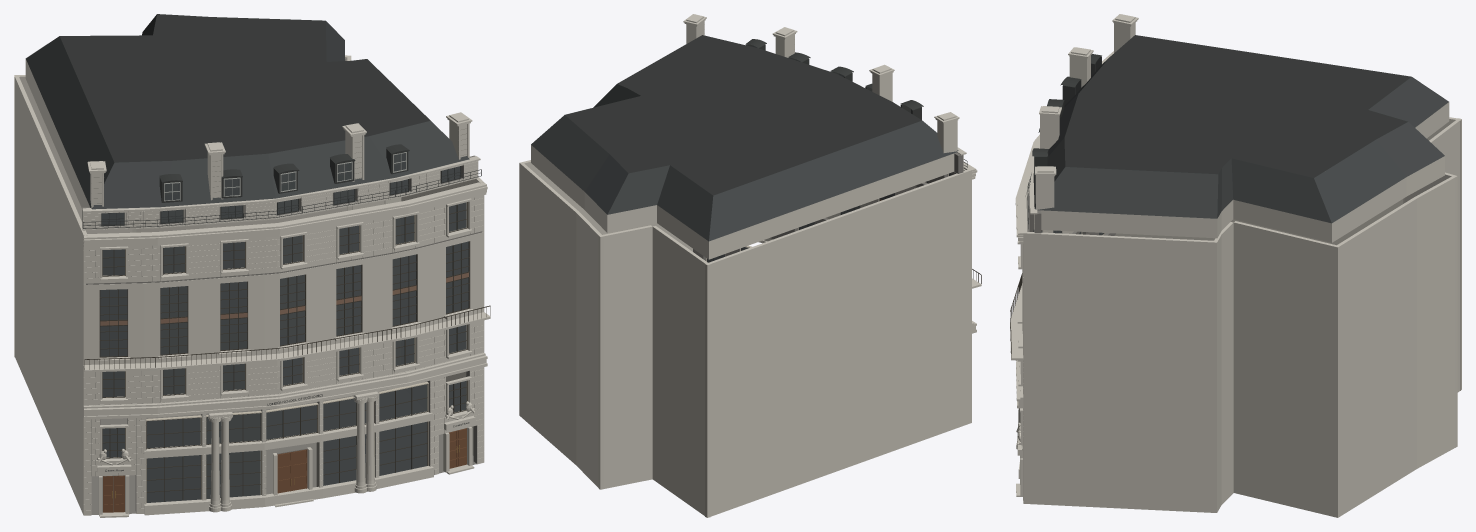
Rendered from clm-exterior-7a60ac2b63b9.glb.
3 renders of one model, left to right at view 1: azimuth 30°, elevation 25°; view 2: azimuth 150°, elevation 25°; view 3: azimuth 270°, elevation 25°, orthographic. The views are drawn at different scales.
Parts seen in each view (by area): view 1: CLM.001; view 2: CLM.001; view 3: CLM.001.
Boxes of the visible parts, box(x1,y1,x2,y2) form: CLM.001: box(14, 14, 490, 517); CLM.001: box(519, 14, 981, 517); CLM.001: box(1010, 14, 1461, 517).
Size of the model in its own units: 33.24 by 28.79 by 34.59.
